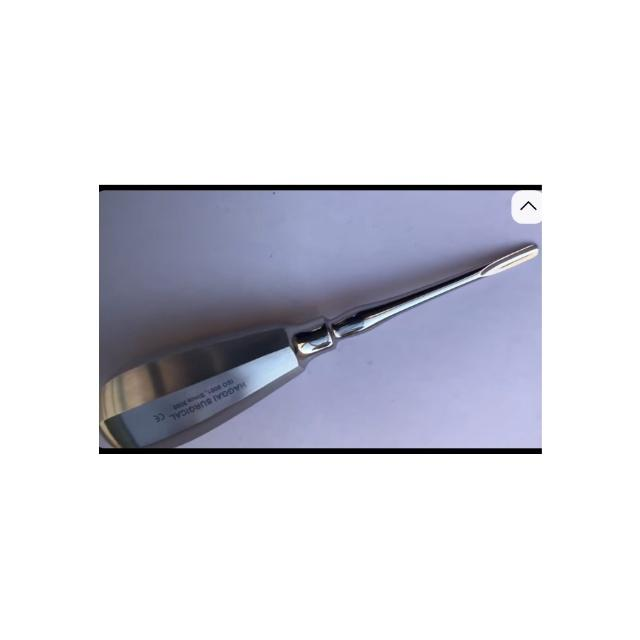botador: (100, 245, 539, 451)
